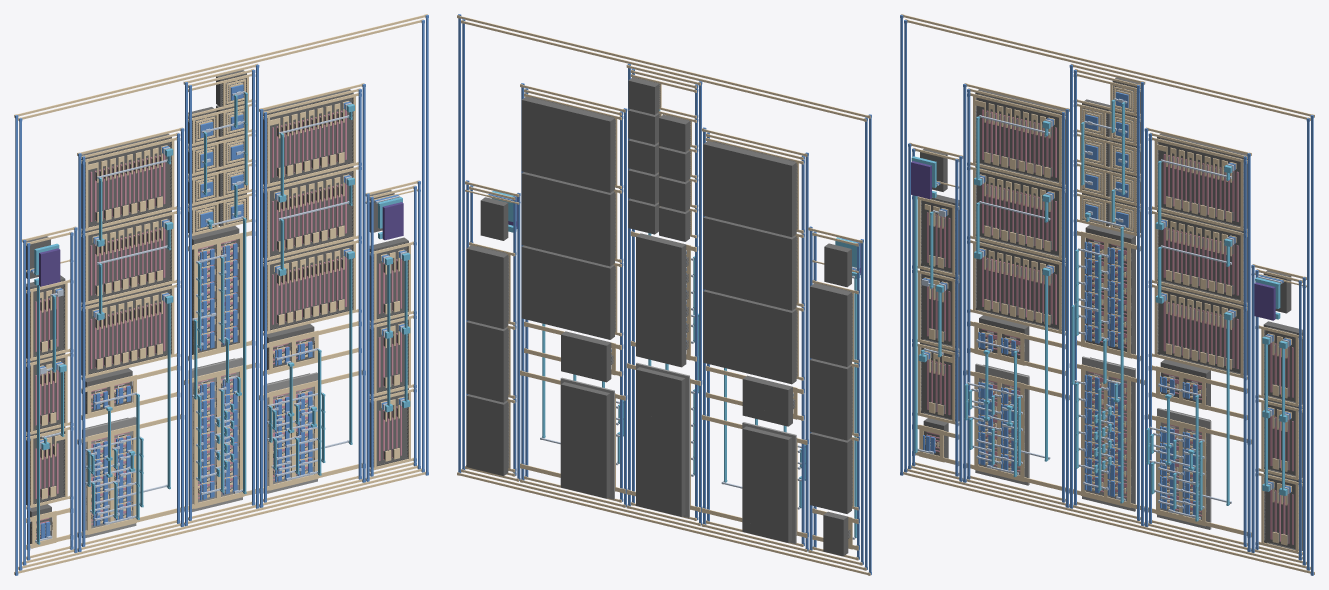
File: JNW_BKLE.gds.gltf
3 views of the same model, side by side, from view 1: azimuth 30°, elevation 25°; view 2: azimuth 150°, elevation 25°; view 3: azimuth 330°, elevation 25° (orthographic).
Visible parts, largest first — view 1: JNWTR_RPPO16_substrate (×6), single_stage_OTA_met1 (×2), JNWTR_RES16_poly (×6), single_stage_OTA_li1 (×2), JNWTR_RES16_li1 (×6), JNWTR_RPPO4_substrate (×6), single_stage_OTA_met3 (×2), temp_affected_current_met1, JNW_BKLE_met1, JNW_BKLE_li1, JNWTR_RPPO16_li1 (×6), JNW_GR06_met1 (+14 smaller); view 2: JNWTR_RPPO16_substrate (×6), JNWTR_RPPO4_substrate (×6), JNWTR_RES16_substrate (×6), AALMISC_PNP_W3p40L3p40_substrate (×9), single_stage_OTA_met1 (×2), JNW_BKLE_met1, single_stage_OTA_li1 (×2), JNW_BKLE_li1, temp_affected_current_met1, JNW_GR06_met1, RC_EXT_met1, AALMISC_CAP50f_substrate (×2) (+5 smaller); view 3: JNWTR_RPPO16_substrate (×6), single_stage_OTA_met1 (×2), JNWTR_RES16_poly (×6), single_stage_OTA_li1 (×2), JNWTR_RES16_li1 (×6), JNWTR_RPPO4_substrate (×6), single_stage_OTA_met3 (×2), JNW_BKLE_met1, temp_affected_current_met1, JNW_BKLE_li1, JNWTR_RPPO16_li1 (×6), JNW_GR06_met1 (+14 smaller).
Boxes of the visible parts, bbox=[...] form: JNWTR_RPPO16_substrate (×6): bbox=[81, 89, 353, 375]; single_stage_OTA_met1 (×2): bbox=[78, 84, 365, 551]; JNWTR_RES16_poly (×6): bbox=[90, 110, 346, 368]; single_stage_OTA_li1 (×2): bbox=[77, 83, 364, 550]; JNWTR_RES16_li1 (×6): bbox=[97, 103, 344, 369]; JNWTR_RPPO4_substrate (×6): bbox=[26, 237, 408, 505]; single_stage_OTA_met3 (×2): bbox=[87, 104, 354, 519]; temp_affected_current_met1: bbox=[184, 64, 259, 526]; JNW_BKLE_met1: bbox=[15, 15, 428, 575]; JNW_BKLE_li1: bbox=[14, 14, 427, 574]; JNWTR_RPPO16_li1 (×6): bbox=[85, 96, 355, 377]; JNW_GR06_met1: bbox=[23, 227, 77, 565]; JNWTR_RPPO16_substrate (×6): bbox=[521, 96, 796, 384]; JNWTR_RPPO4_substrate (×6): bbox=[466, 245, 851, 513]; JNWTR_RES16_substrate (×6): bbox=[529, 111, 783, 370]; AALMISC_PNP_W3p40L3p40_substrate (×9): bbox=[628, 77, 689, 241]; single_stage_OTA_met1 (×2): bbox=[521, 83, 808, 551]; JNW_BKLE_met1: bbox=[458, 14, 871, 574]; single_stage_OTA_li1 (×2): bbox=[520, 84, 807, 551]; JNW_BKLE_li1: bbox=[457, 15, 870, 575]; temp_affected_current_met1: bbox=[627, 63, 702, 525]; JNW_GR06_met1: bbox=[809, 226, 863, 564]; RC_EXT_met1: bbox=[466, 180, 520, 480]; AALMISC_CAP50f_substrate (×2): bbox=[480, 197, 851, 287]; JNWTR_RPPO16_substrate (×6): bbox=[975, 89, 1247, 375]; single_stage_OTA_met1 (×2): bbox=[963, 84, 1250, 551]; JNWTR_RES16_poly (×6): bbox=[982, 109, 1238, 368]; single_stage_OTA_li1 (×2): bbox=[964, 83, 1251, 550]; JNWTR_RES16_li1 (×6): bbox=[984, 103, 1231, 369]; JNWTR_RPPO4_substrate (×6): bbox=[920, 194, 1302, 551]; single_stage_OTA_met3 (×2): bbox=[964, 116, 1232, 521]; JNW_BKLE_met1: bbox=[900, 15, 1313, 575]; temp_affected_current_met1: bbox=[1069, 64, 1144, 526]; JNW_BKLE_li1: bbox=[901, 14, 1314, 574]; JNWTR_RPPO16_li1 (×6): bbox=[973, 94, 1243, 377]; JNW_GR06_met1: bbox=[908, 143, 962, 481].
Bounding box in the file's own units: 104 × 111 × 6.87.
